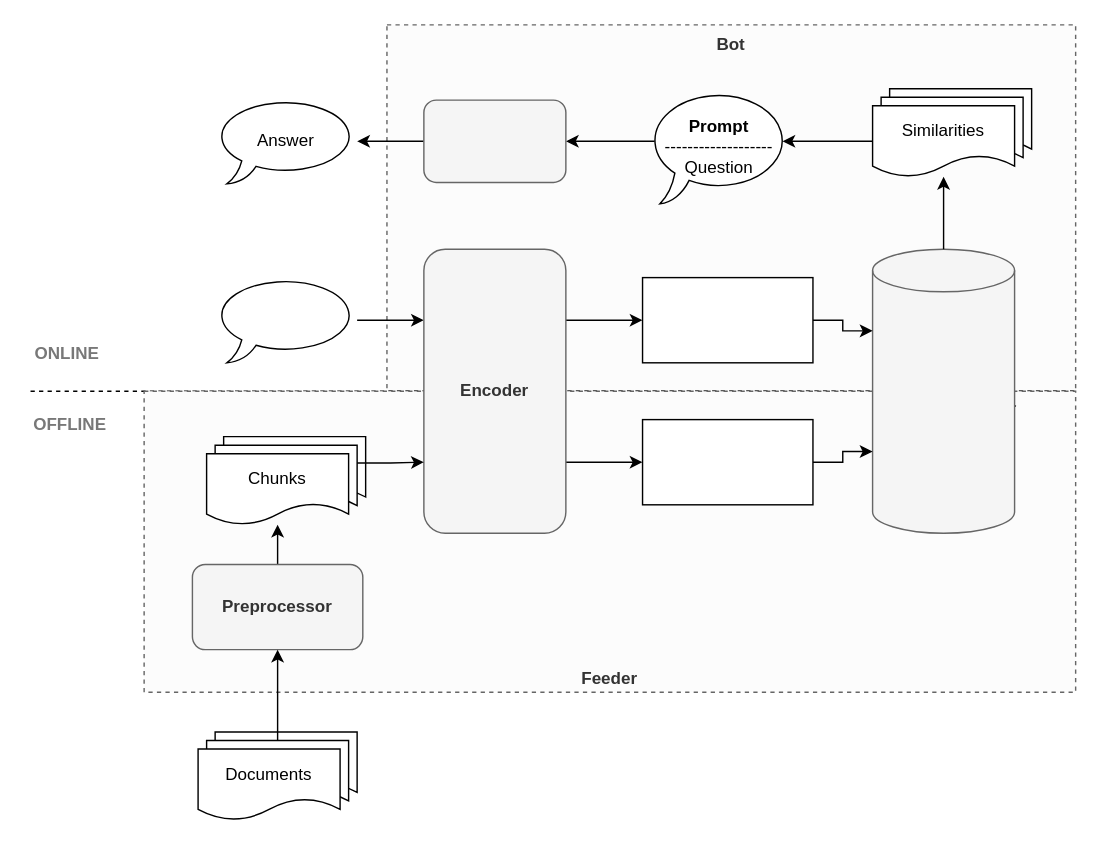
Image size: 1105x845. Some labels were removed from this diagram. The centre of each missing label's shape, as x and y in pixels:
Chunk Representations: the point at 727,461
GPT: the point at 494,140
Question: the point at 285,319
Question Representation: the point at 727,319
VectorStore: the point at 943,390
